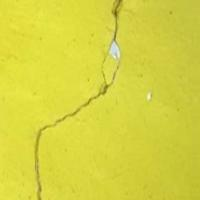crack: (20, 0, 127, 199)
